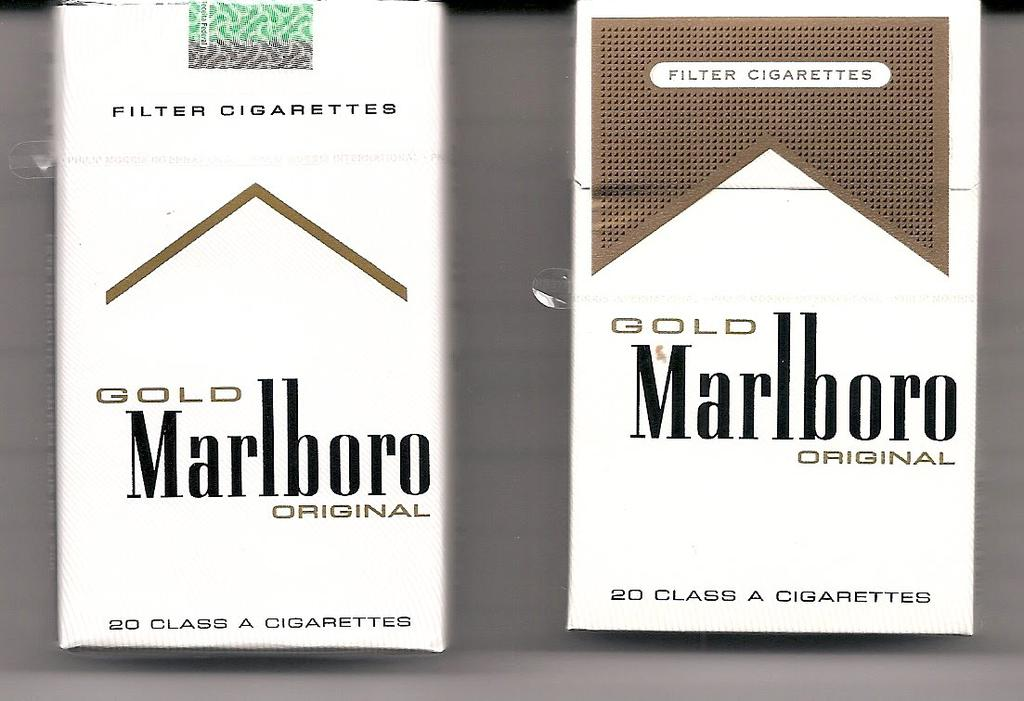marlboro_gold: (62, 6, 441, 641)
